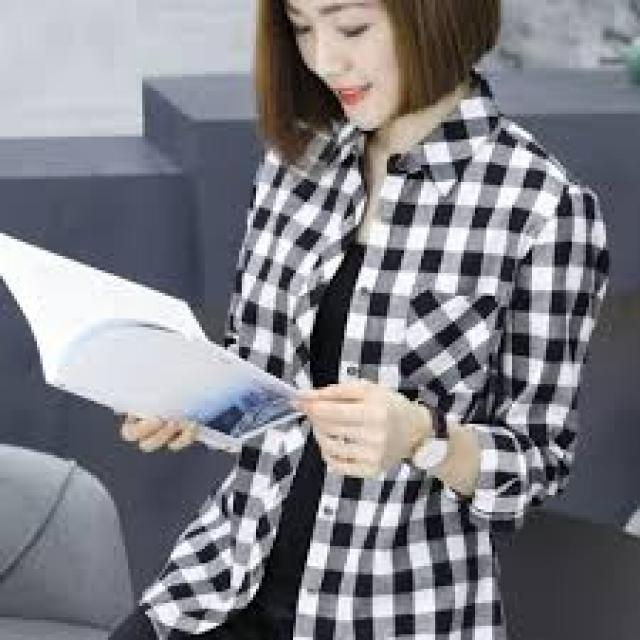plaid: (158, 117, 610, 636)
